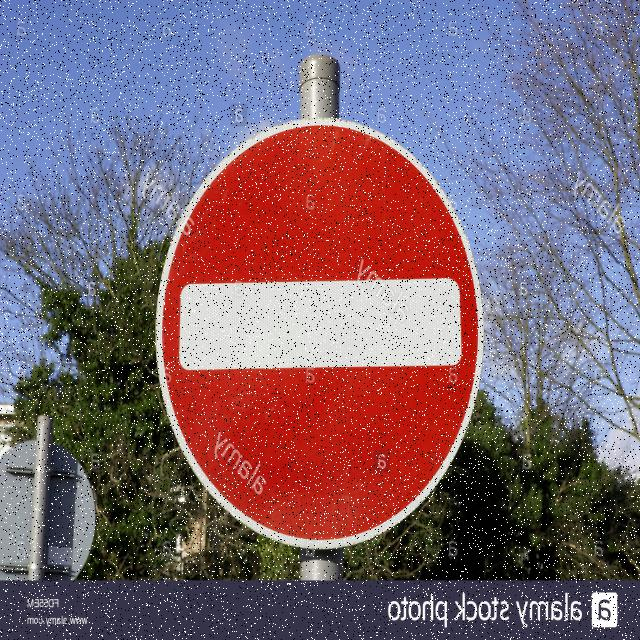no entry: (155, 120, 484, 542)
